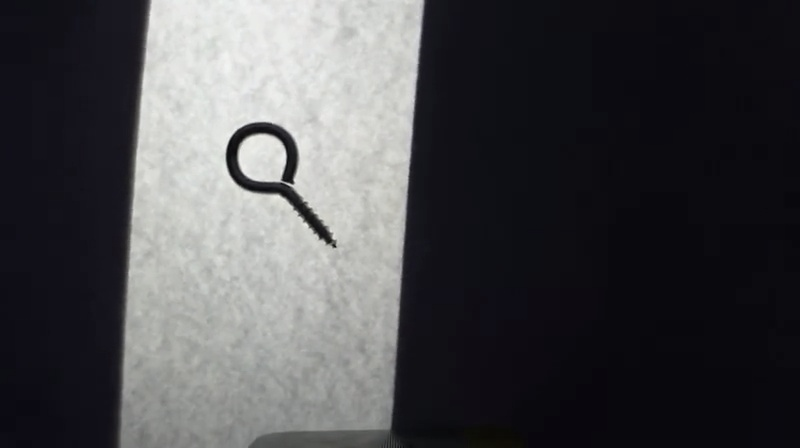O001: (222, 120, 340, 255)
